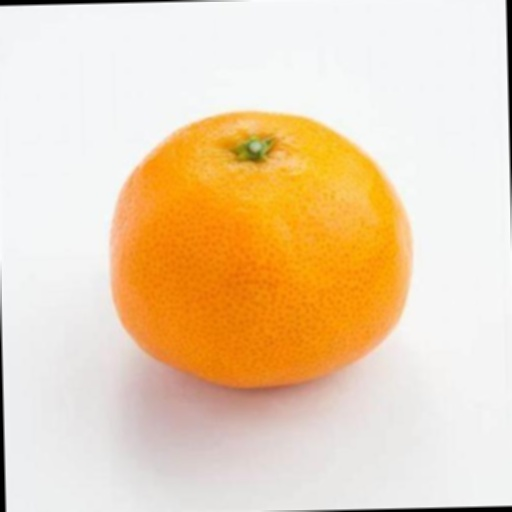fruit: (353, 124, 469, 437)
